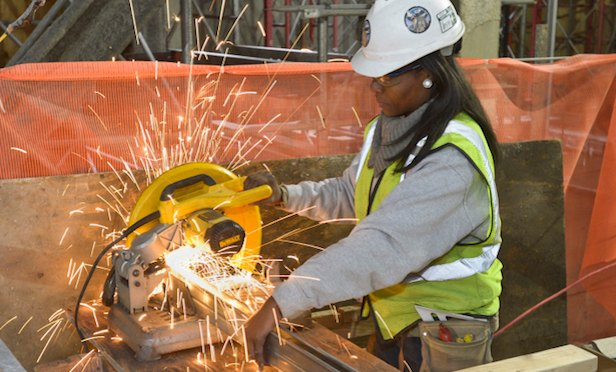Hard Hat: (351, 1, 467, 118)
Person: (242, 1, 505, 367)
Vest: (344, 55, 505, 333)
